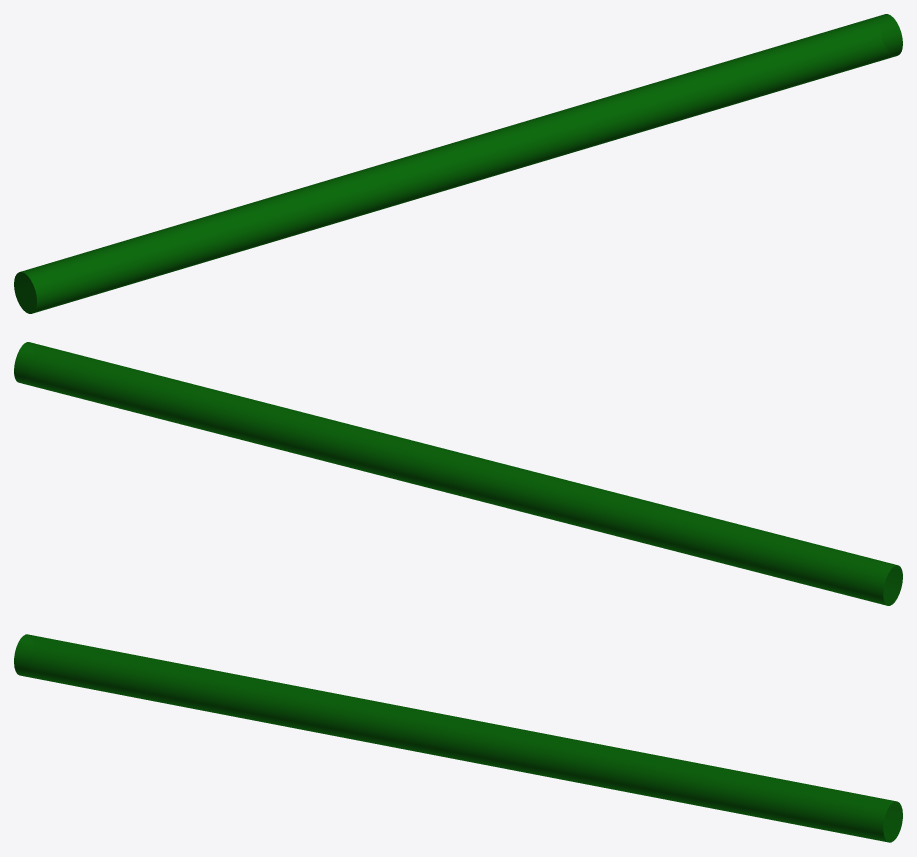
The model's file is Event_194851961_jet_7.fbx.
The picture shows the model from 3 angles, top to bottom: view 1: azimuth 30°, elevation 25°; view 2: azimuth 150°, elevation 25°; view 3: azimuth 330°, elevation 25°; orthographic projection. The views are drawn at different scales.
Visible parts, largest first — view 1: Model; view 2: Model; view 3: Model.
Part boxes in pixels (<box>): Model: <box>14,14,902,313</box>; Model: <box>14,342,902,605</box>; Model: <box>14,634,902,842</box>.
Bounding box in the file's own units: 0.939 × 0.0696 × 0.073.
